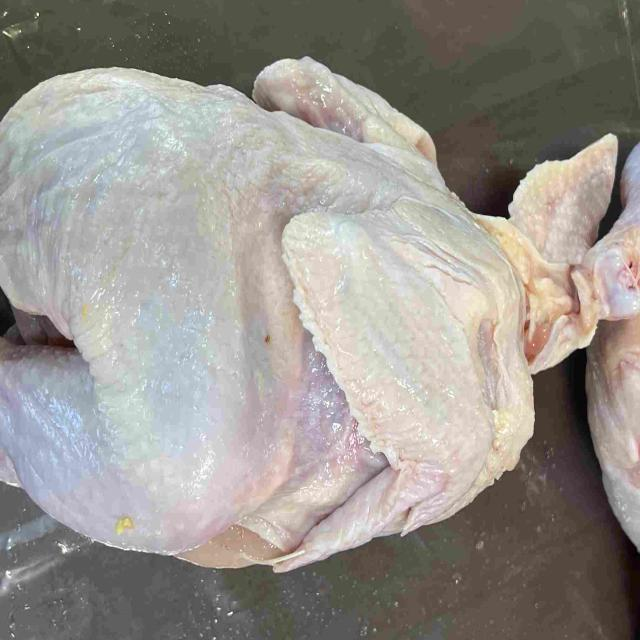back: (0, 68, 443, 282)
leg: (0, 236, 305, 548), (584, 141, 640, 319)
wing: (272, 212, 510, 571), (253, 57, 439, 163)
